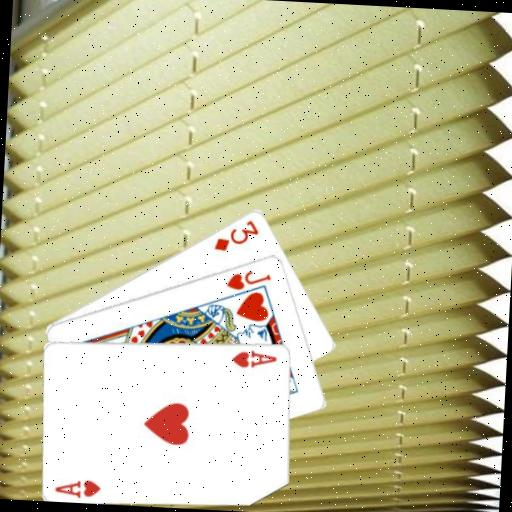3D: (211, 215, 262, 255)
AH: (52, 475, 103, 501), (229, 346, 279, 371)
JH: (223, 266, 273, 294)
